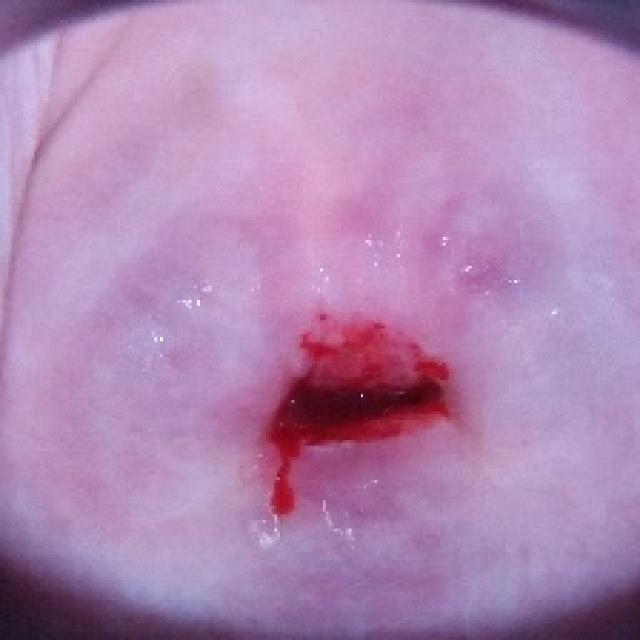type-2: (76, 73, 622, 632)
